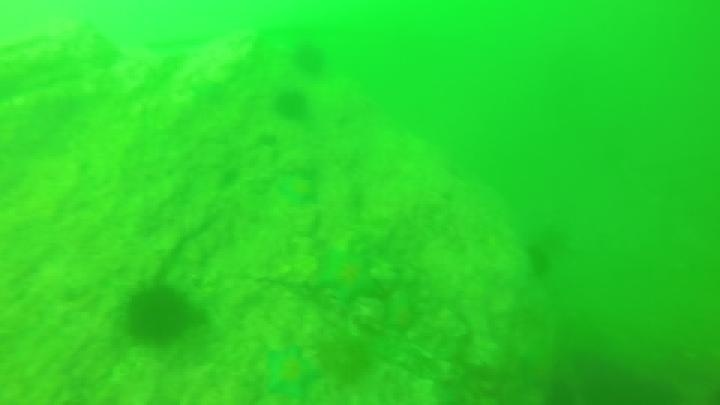echinus: (121, 281, 196, 348), (313, 330, 374, 385), (290, 40, 329, 78), (272, 88, 311, 123), (523, 242, 555, 279)
starfish: (311, 245, 385, 308), (260, 344, 324, 402), (273, 171, 322, 209)
